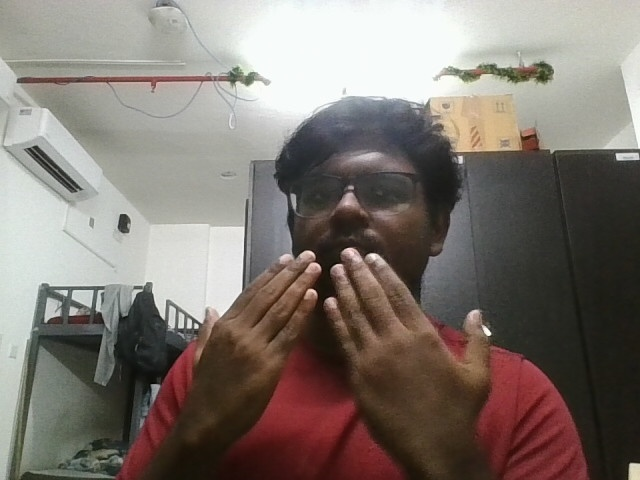Thanks: (152, 237, 511, 480)
